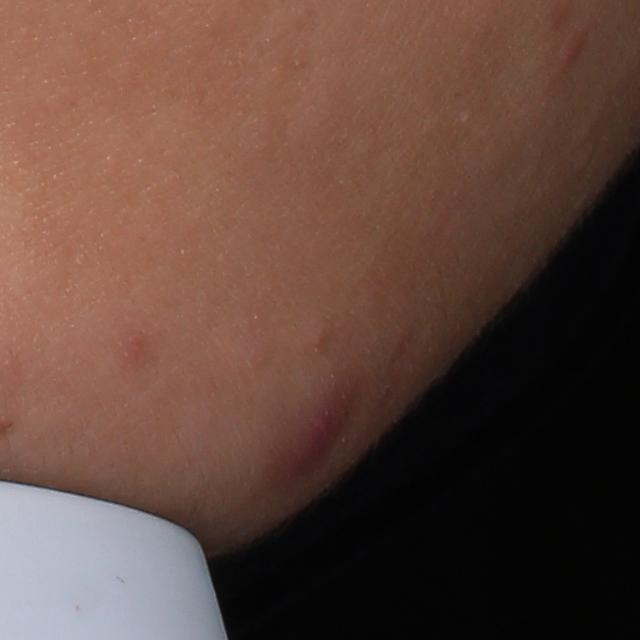papule: (555, 26, 589, 72)
